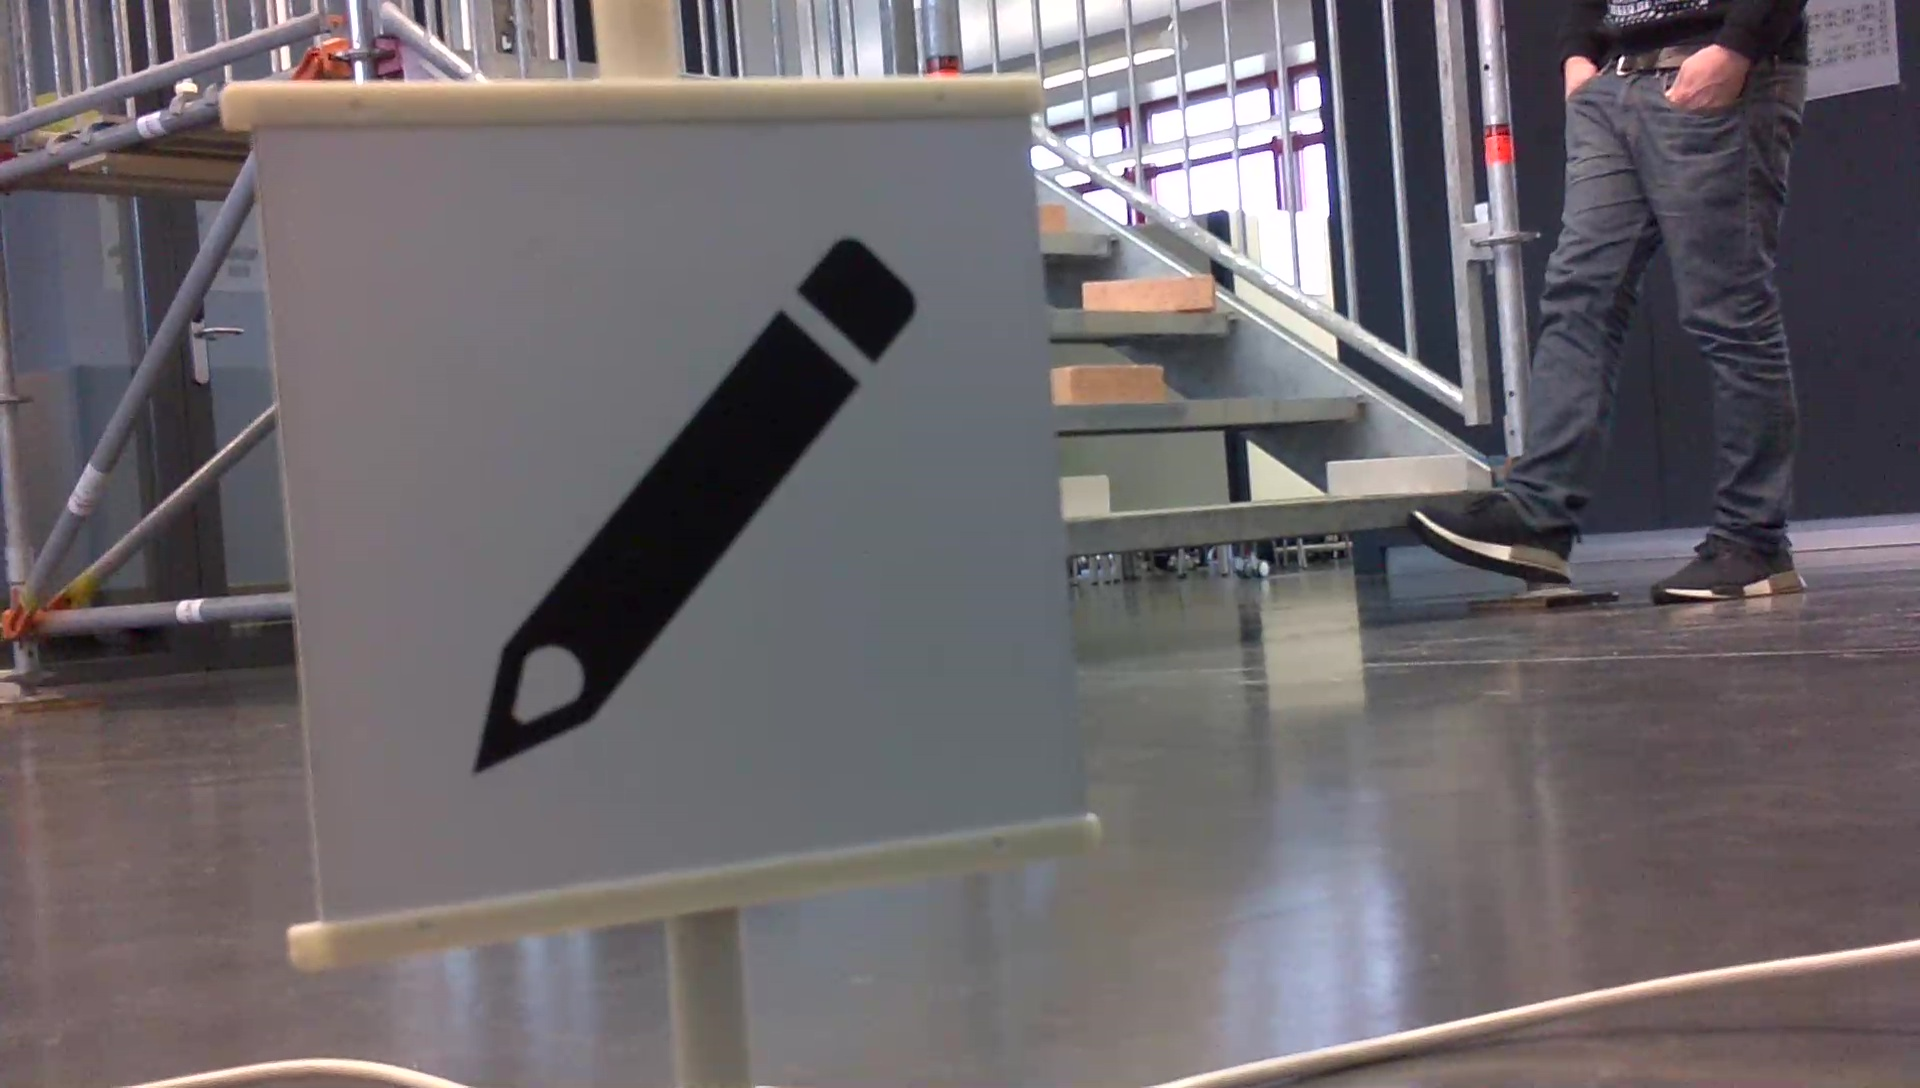brick: (1328, 454, 1468, 495), (1085, 274, 1215, 309), (1055, 367, 1160, 402), (1062, 473, 1108, 514), (1036, 204, 1062, 232)
edge: (1060, 394, 1367, 429), (1054, 310, 1237, 335), (1038, 232, 1127, 257)
pencil: (451, 223, 928, 790)
